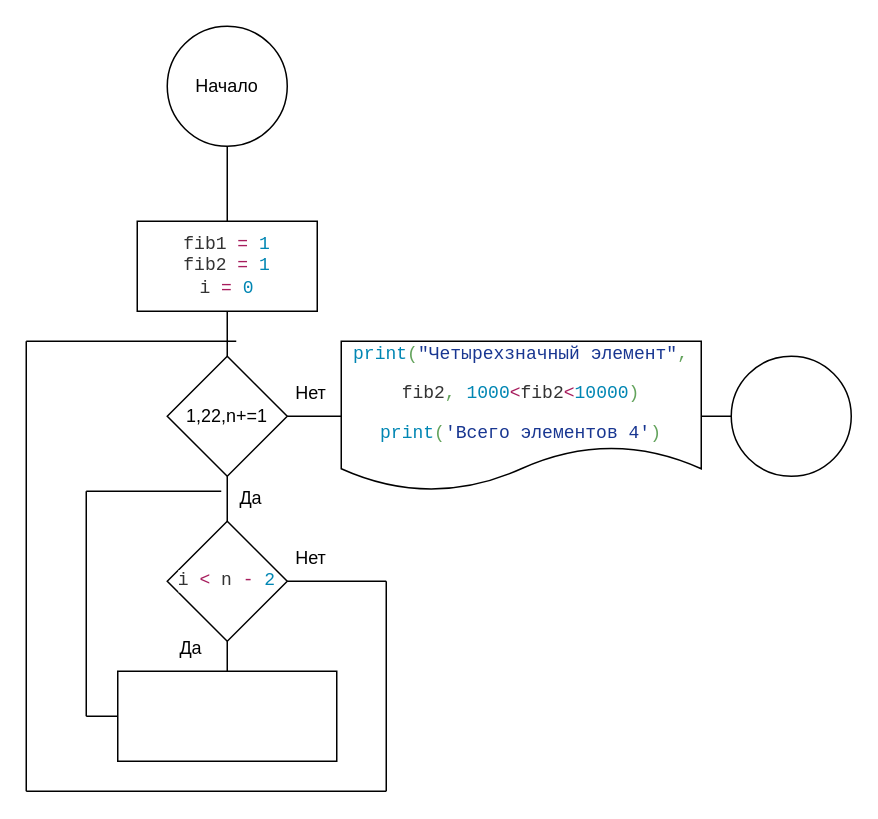
This 878x819 diagram has some shape labels left out. Each missing label, with the box of its shape:
fib_sum = fib1 + fib2 fib1 = fib2 fib2 = fib_sum i = i + 1: (116, 670, 337, 761)
Конец: (730, 355, 851, 476)
